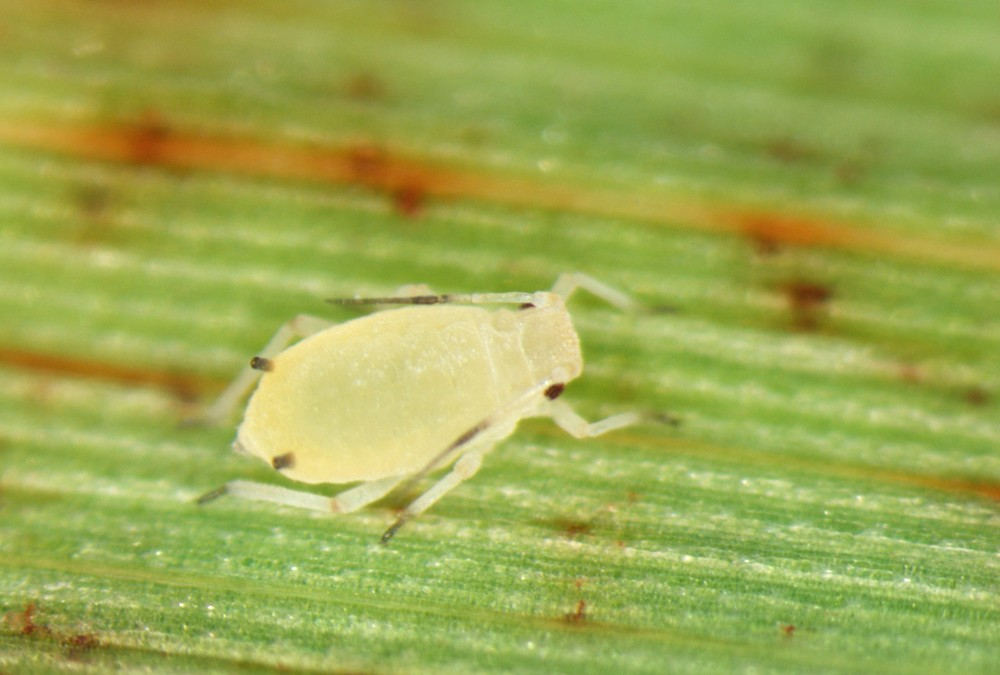Pulgon: (194, 255, 659, 554)
